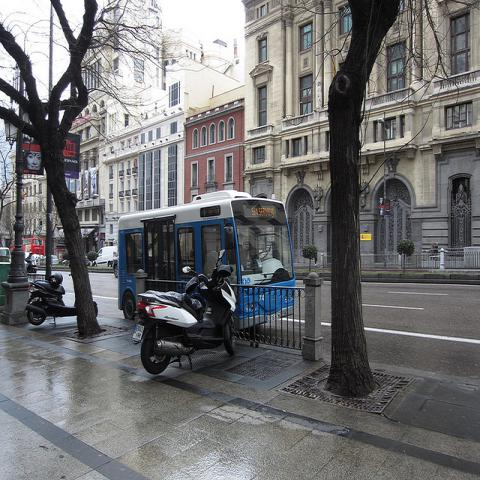bus: (118, 189, 295, 328), (10, 237, 45, 256)
car: (90, 246, 118, 267), (52, 255, 59, 264), (61, 260, 70, 266), (32, 255, 40, 260)
motorcycle: (130, 246, 241, 379), (27, 274, 77, 324)
